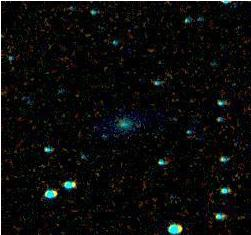star: (134, 34, 164, 64)
